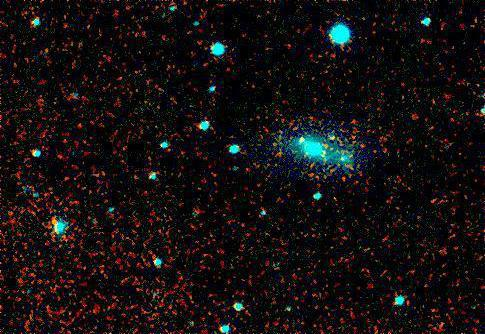star: (285, 125, 315, 155)
